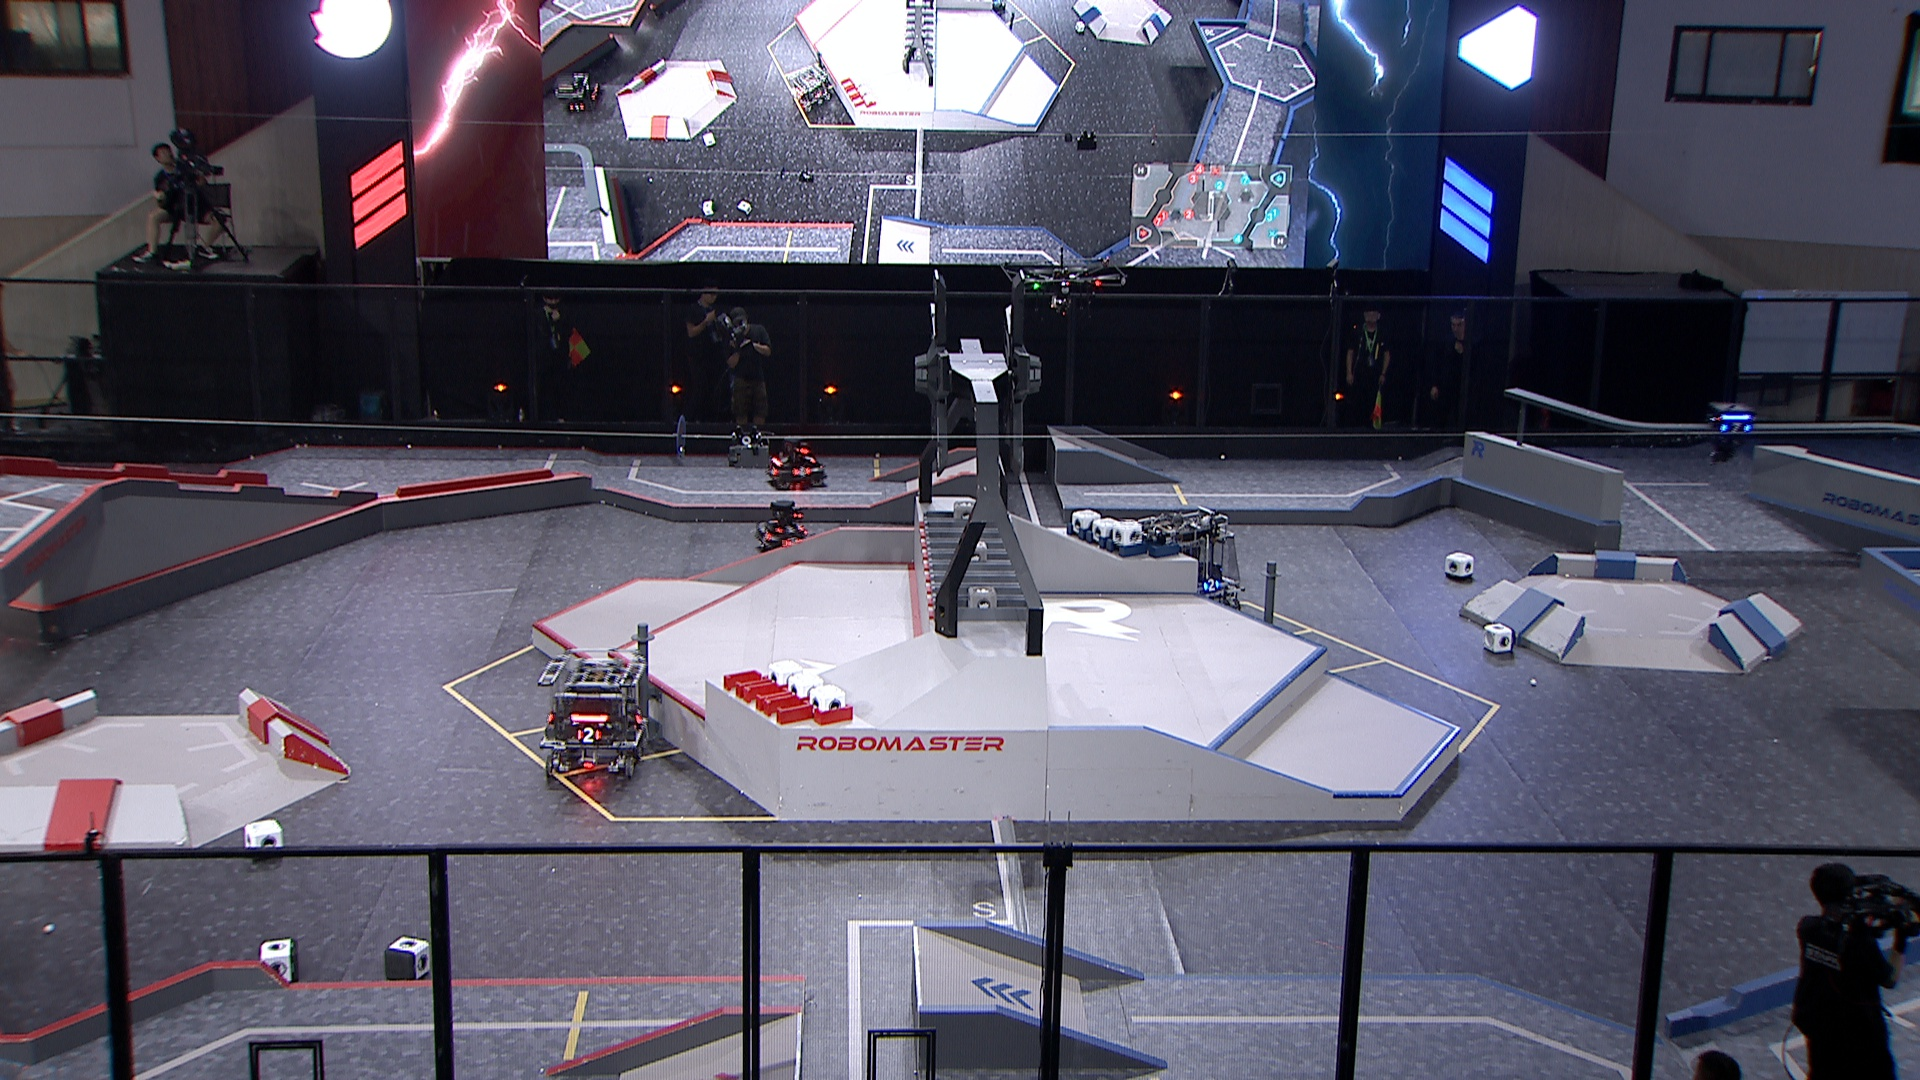armor: (574, 728, 603, 744), (1718, 423, 1751, 436), (632, 708, 647, 725), (1203, 578, 1222, 591), (781, 534, 799, 547), (775, 524, 800, 531), (760, 527, 773, 541), (793, 465, 808, 476), (769, 463, 779, 477)
car: (534, 638, 655, 782), (1135, 505, 1247, 615), (761, 433, 831, 491), (754, 495, 814, 559)
ignore: (779, 65, 833, 112), (551, 73, 603, 115)
watcher: (1704, 400, 1762, 465)
